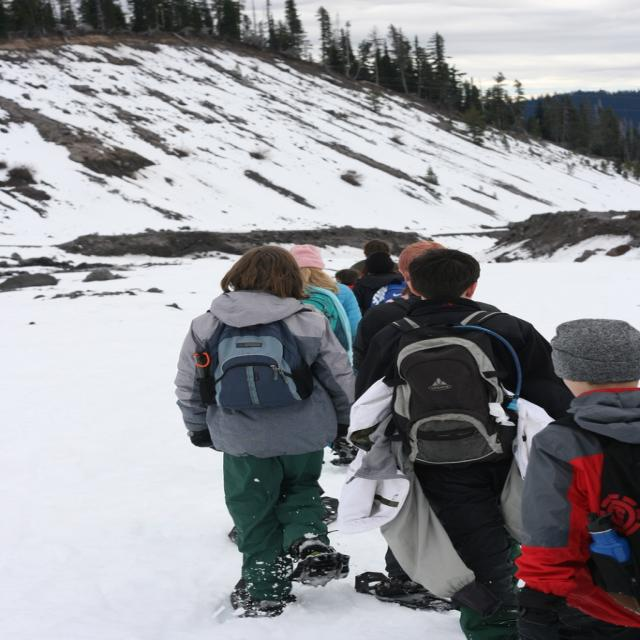backpack: (376, 310, 528, 466), (186, 312, 314, 407)
